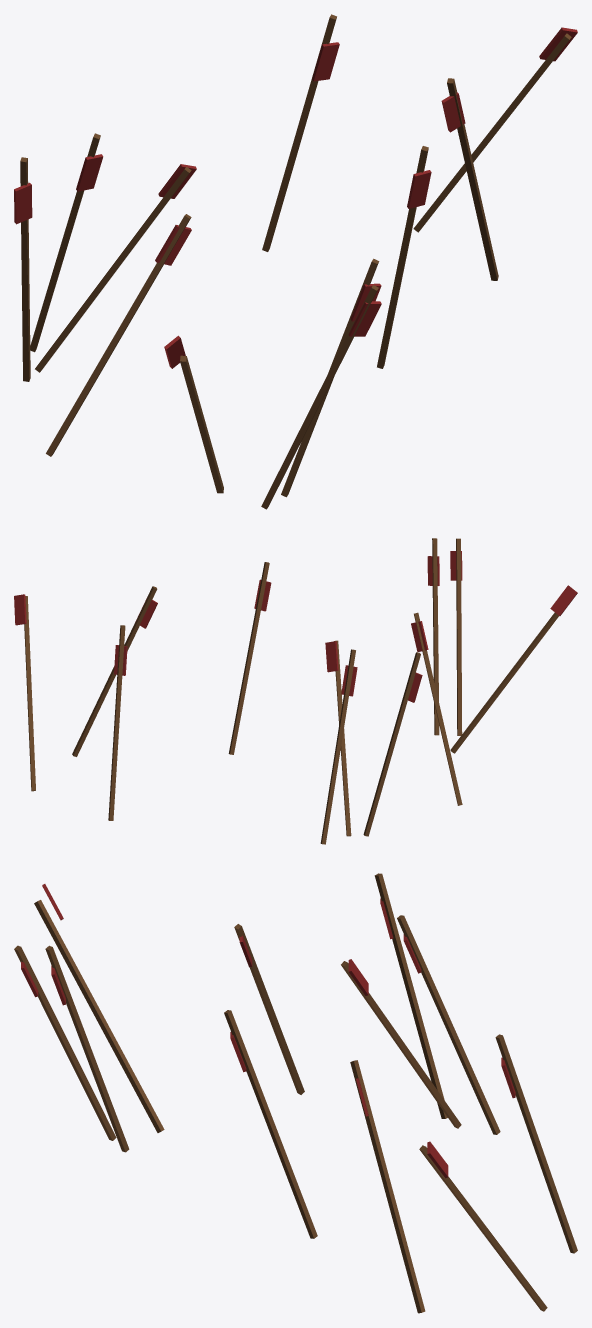
The model's file is sanseong_arrow_field.glb.
3 views of the same model, one above another, from view 1: azimuth 30°, elevation 25°; view 2: azimuth 150°, elevation 25°; view 3: azimuth 270°, elevation 25° (orthographic). The views are drawn at different scales.
Parts seen in each view (by area): view 1: sanseong_arrow_field; view 2: sanseong_arrow_field; view 3: sanseong_arrow_field.
Part boxes in pixels (x1,y1,x2,y2): sanseong_arrow_field: (14, 14, 577, 509); sanseong_arrow_field: (14, 538, 577, 844); sanseong_arrow_field: (14, 873, 577, 1313).
Size of the model in its own units: 1.96 by 0.7717 by 1.73.
